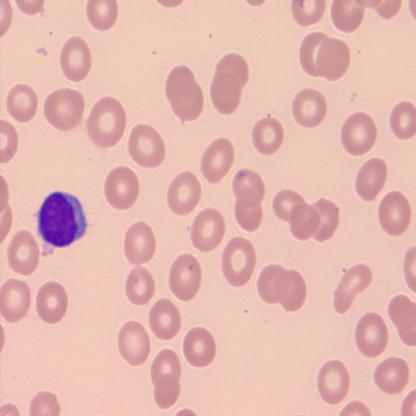Lymphocyte: (33, 190, 89, 256)
